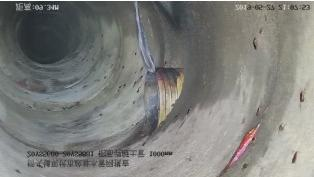ZGAJ: (145, 68, 183, 131)
